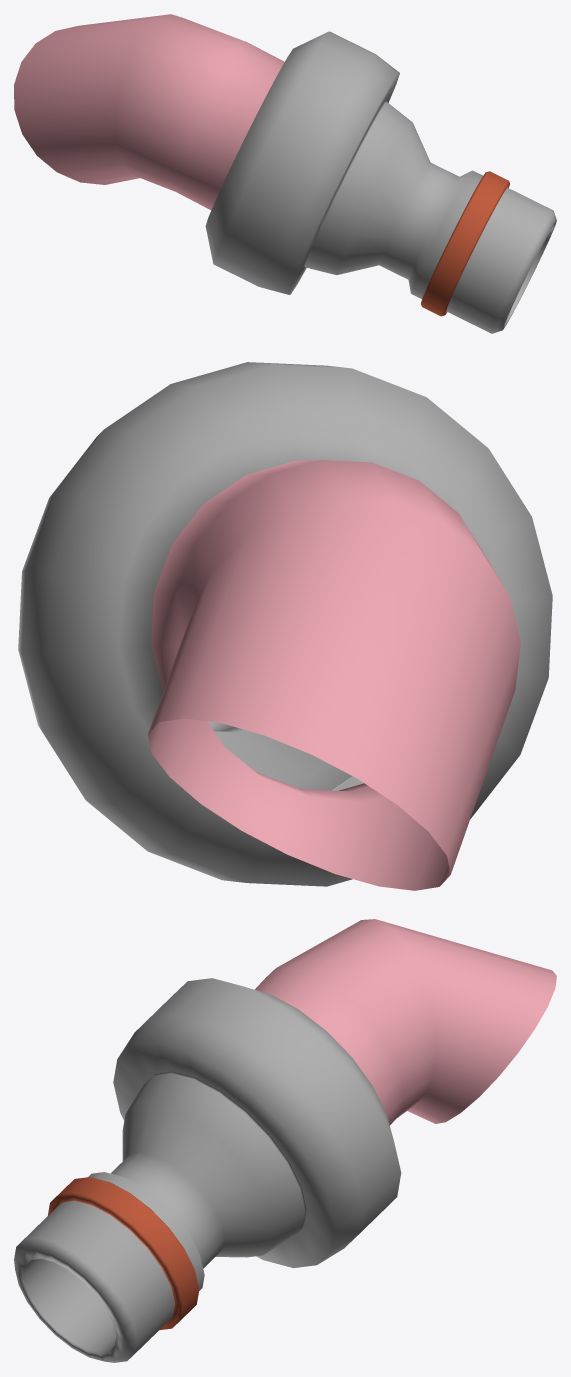
Rendered from SM_Robinet.fbx.
The picture shows the model from 3 angles, top to bottom: view 1: azimuth 30°, elevation 25°; view 2: azimuth 150°, elevation 25°; view 3: azimuth 270°, elevation 25°; orthographic projection. The views are drawn at different scales.
Parts seen in each view (by area): view 1: Robinet; view 2: Robinet; view 3: Robinet.
Boxes of the visible parts, x1,y1,x2,y2 form: Robinet: (14,14,556,333); Robinet: (18,362,552,890); Robinet: (14,919,556,1362).
Size of the model in its own units: 4.94 by 3.45 by 5.46.
